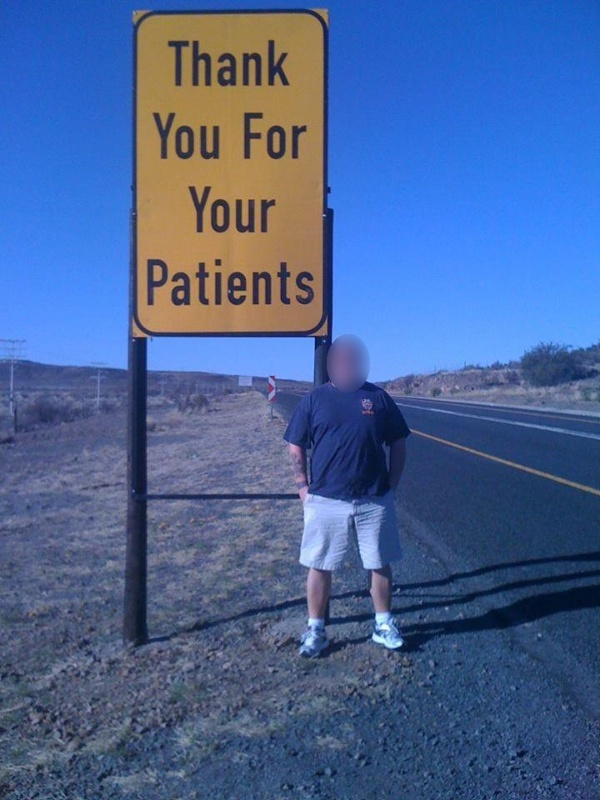text: (161, 111, 176, 162), (177, 111, 192, 162), (193, 111, 208, 162), (193, 185, 208, 236), (209, 185, 224, 236), (225, 185, 240, 236), (241, 185, 256, 236), (257, 185, 272, 236), (241, 111, 256, 161), (257, 111, 272, 161), (273, 111, 288, 161), (289, 111, 304, 161), (161, 258, 176, 307), (177, 258, 192, 307), (193, 258, 208, 307), (209, 258, 224, 307), (225, 258, 240, 307), (241, 258, 256, 307), (257, 258, 272, 307), (273, 258, 288, 307), (289, 258, 304, 307), (177, 39, 192, 87), (193, 39, 208, 87), (209, 39, 224, 87), (225, 39, 240, 87), (241, 39, 256, 87), (257, 39, 272, 87), (273, 39, 288, 87), (146, 258, 160, 307), (209, 111, 222, 162), (305, 258, 316, 307), (151, 111, 160, 162), (167, 39, 176, 87), (273, 185, 280, 236), (186, 185, 192, 236), (305, 111, 310, 161), (289, 39, 291, 87), (361, 410, 368, 416), (369, 410, 375, 416)
